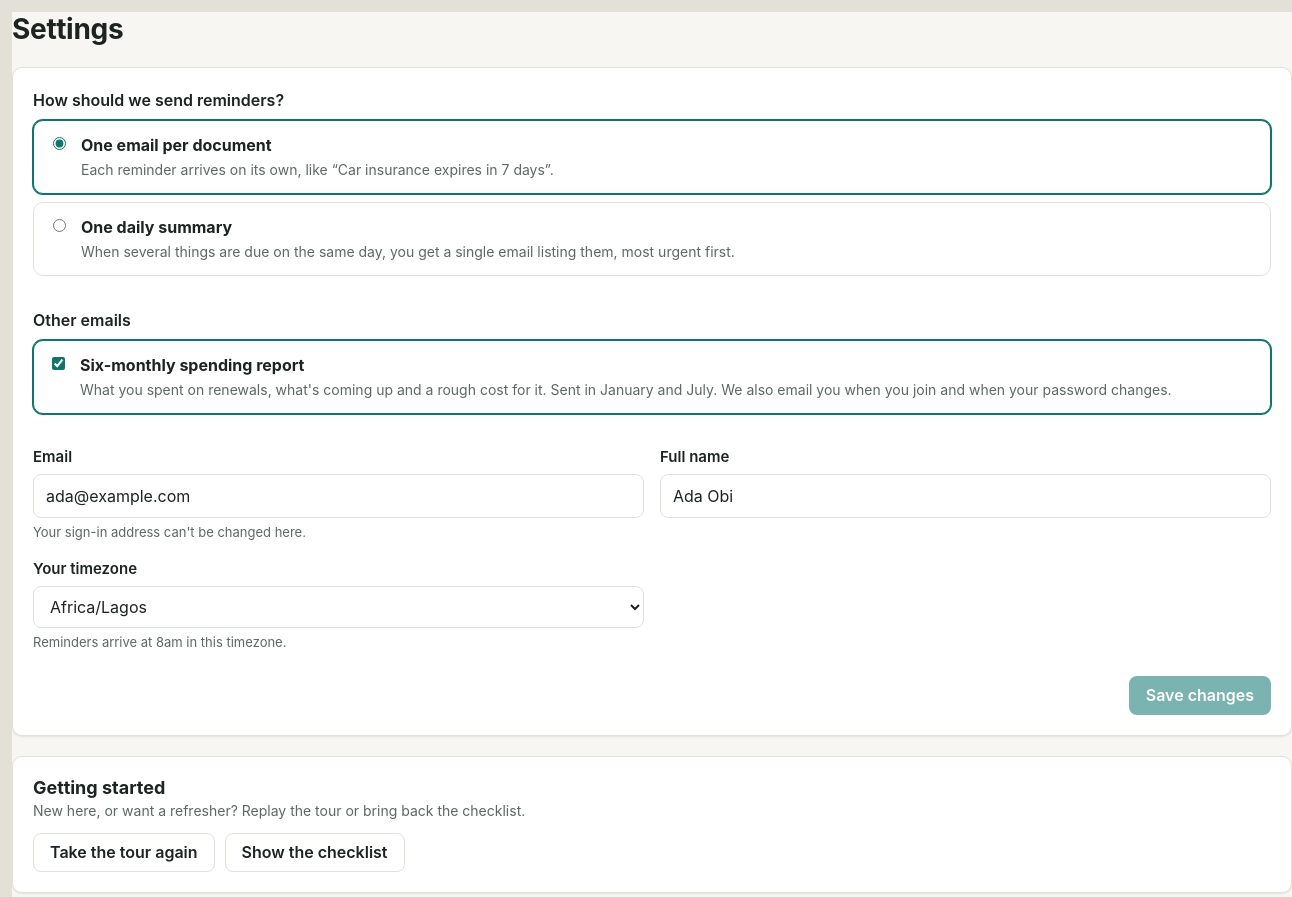
Scenario: SettingsPage › lets the user turn the six-monthly report off and on
The image size is (1292, 897).
Expected: the heading "Settings" is shown, [12,12,123,47]
What coordinates should you click on to do the following:
click the checkbox labelled "Six-monthly spending report"
I would click on:
 (58, 364)
Its box is [52,357,65,370].
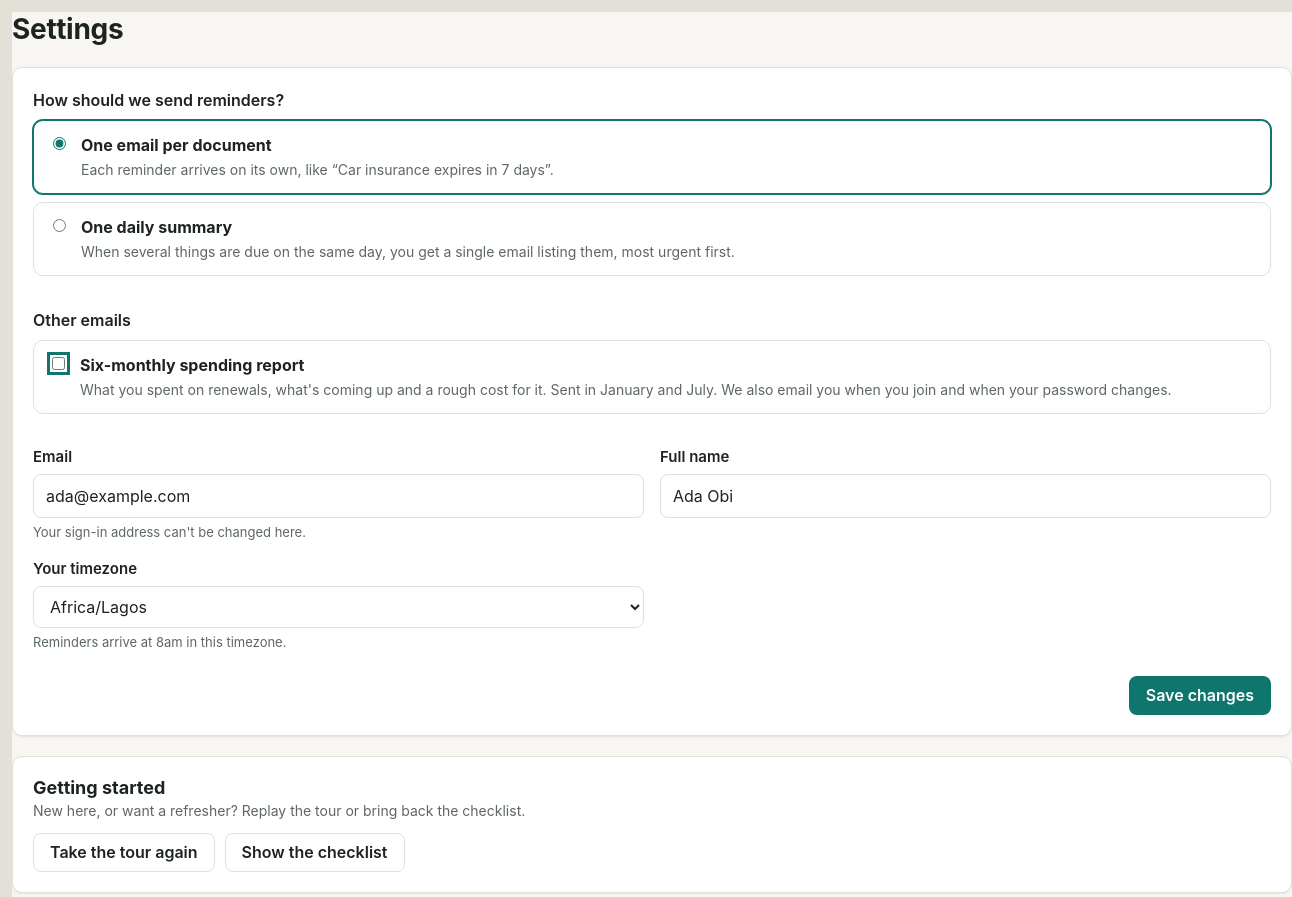
What coordinates should you click on to do the following:
click the button "Save changes"
I would click on:
 (1200, 696)
Its box is [1129,676,1271,715].
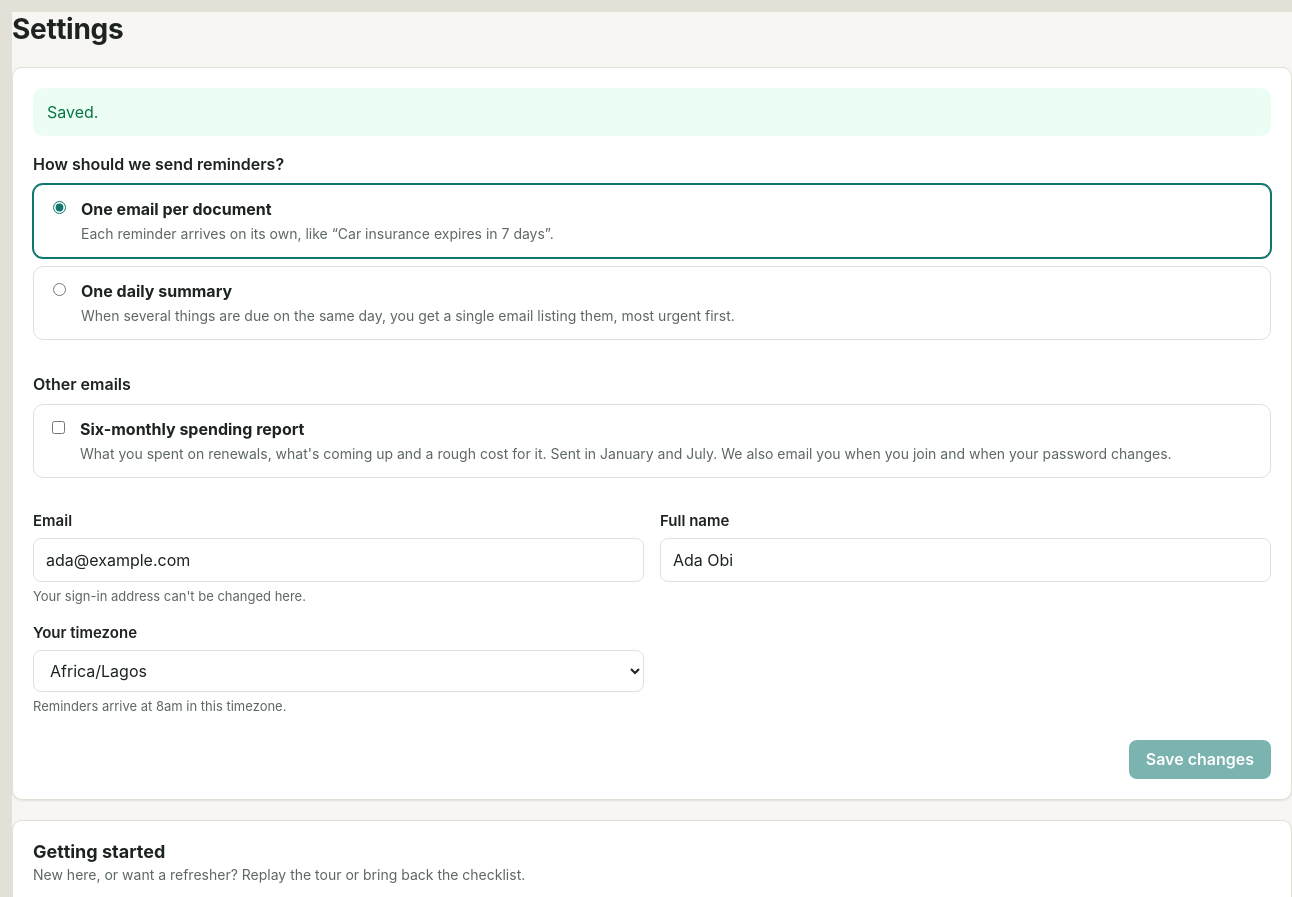
Expected: the checkbox labelled "Six-monthly spending report" is not checked, [52,421,65,434]
Expected: the text "Saved." is shown, [33,88,1271,136]
